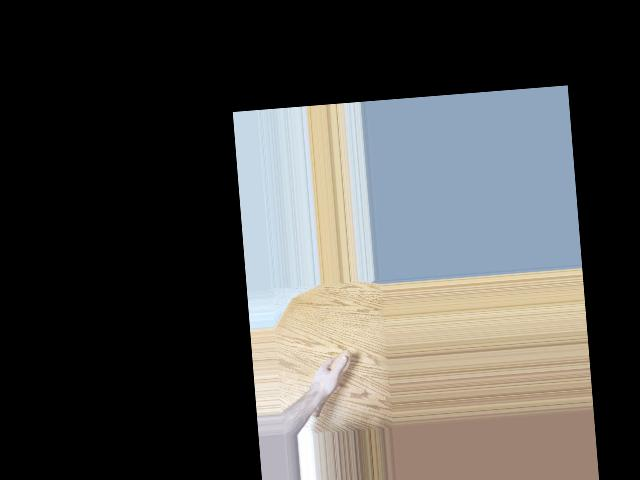sweet_potato: (306, 348, 355, 419)
